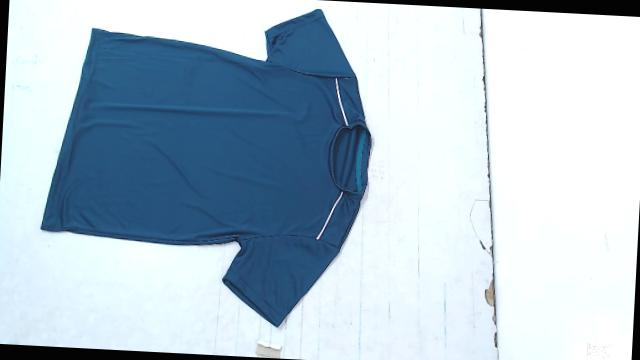new-garment: (41, 9, 371, 326)
